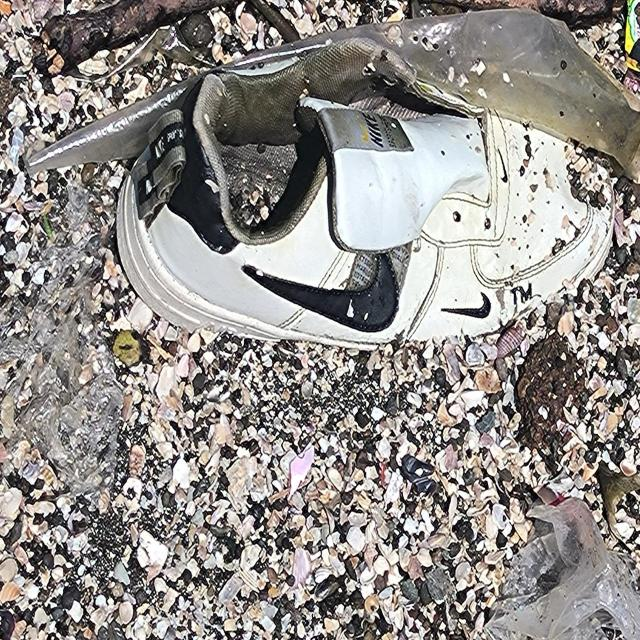plastic_waste: (624, 1, 640, 70)
rubber_waste: (114, 38, 616, 350)
